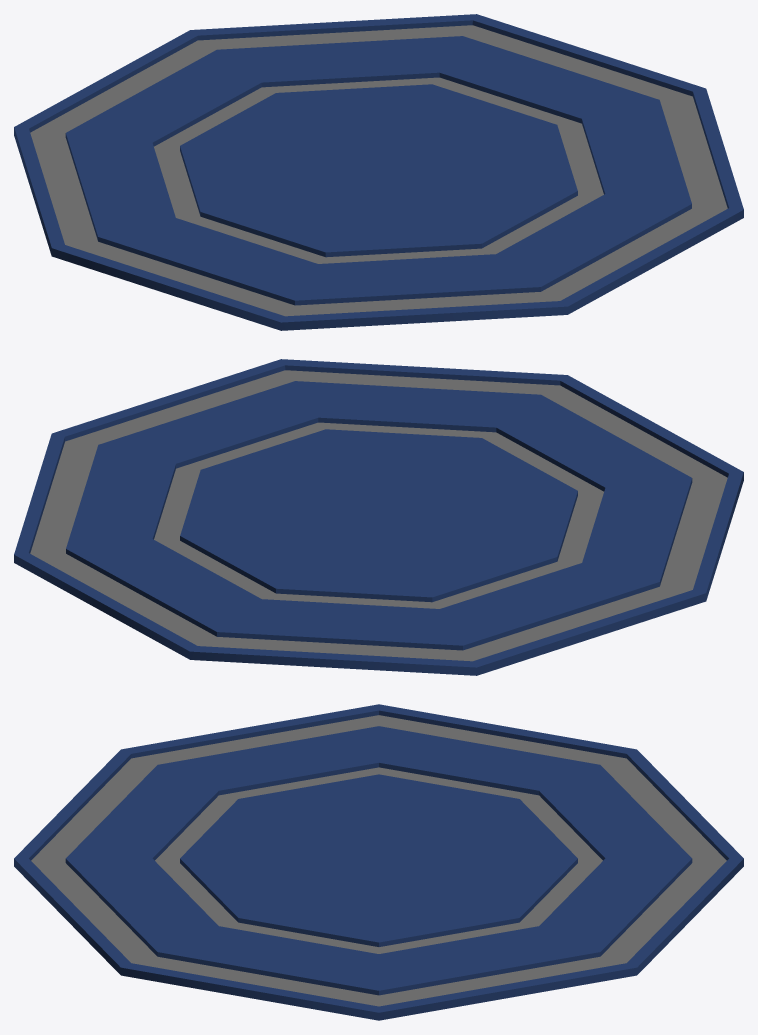
Rendered from Itr_Carpet1_05.FBX.
3 renders of one model, top to bottom at view 1: azimuth 30°, elevation 25°; view 2: azimuth 150°, elevation 25°; view 3: azimuth 270°, elevation 25°, orthographic. The views are drawn at different scales.
Parts seen in each view (by area): view 1: Itr_Carpet1_05; view 2: Itr_Carpet1_05; view 3: Itr_Carpet1_05.
Part boxes in pixels (x1,y1,x2,y2): Itr_Carpet1_05: (14,14,743,330); Itr_Carpet1_05: (14,359,743,675); Itr_Carpet1_05: (14,704,743,1020).
Bounding box in the file's own units: 121 × 1.46 × 121.
